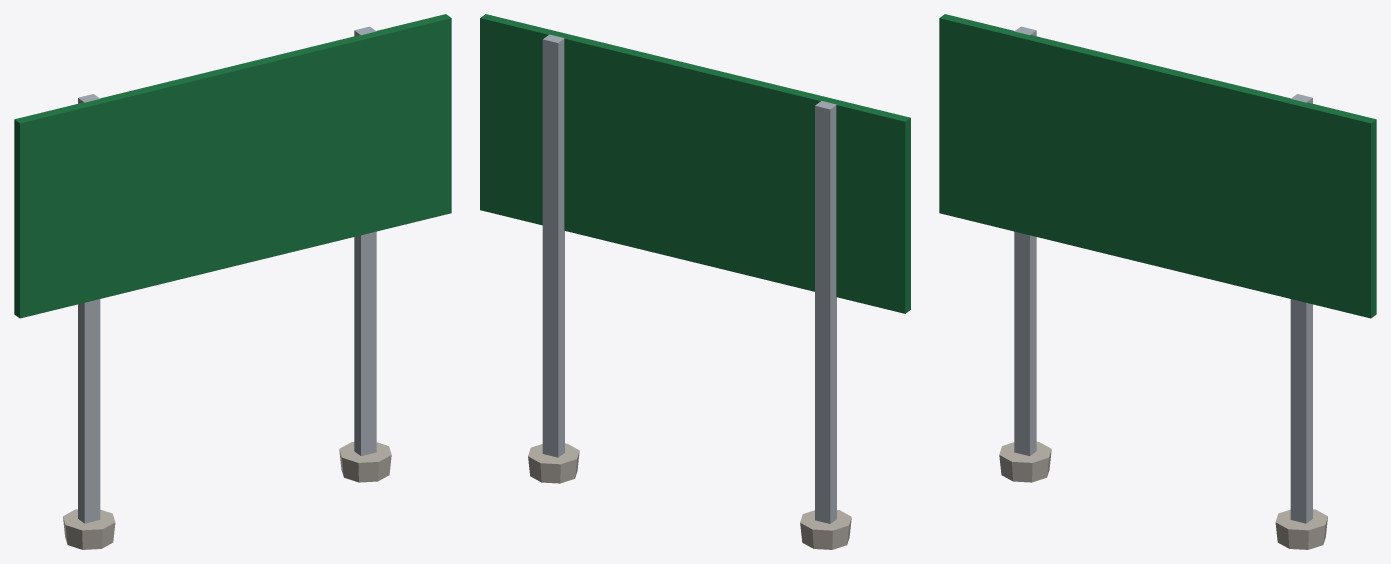
Rendered from exits_guide.glb.
3 views of the same model, side by side, from view 1: azimuth 30°, elevation 25°; view 2: azimuth 150°, elevation 25°; view 3: azimuth 330°, elevation 25° (orthographic).
Parts seen in each view (by area): view 1: ExitsGuide_body; view 2: ExitsGuide_body; view 3: ExitsGuide_body.
Boxes of the visible parts, x1,y1,x2,y2 form: ExitsGuide_body: (14,14,451,549); ExitsGuide_body: (480,14,910,549); ExitsGuide_body: (939,14,1376,549).
Bounding box in the file's own units: 4.4 × 4.3 × 0.48.
